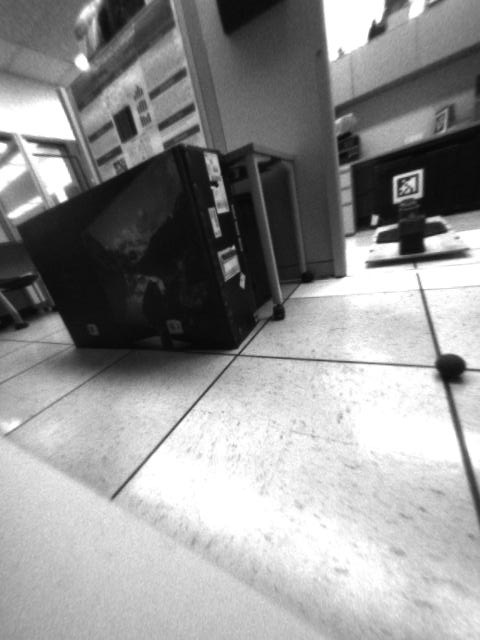dogtoy: (427, 345, 471, 388)
